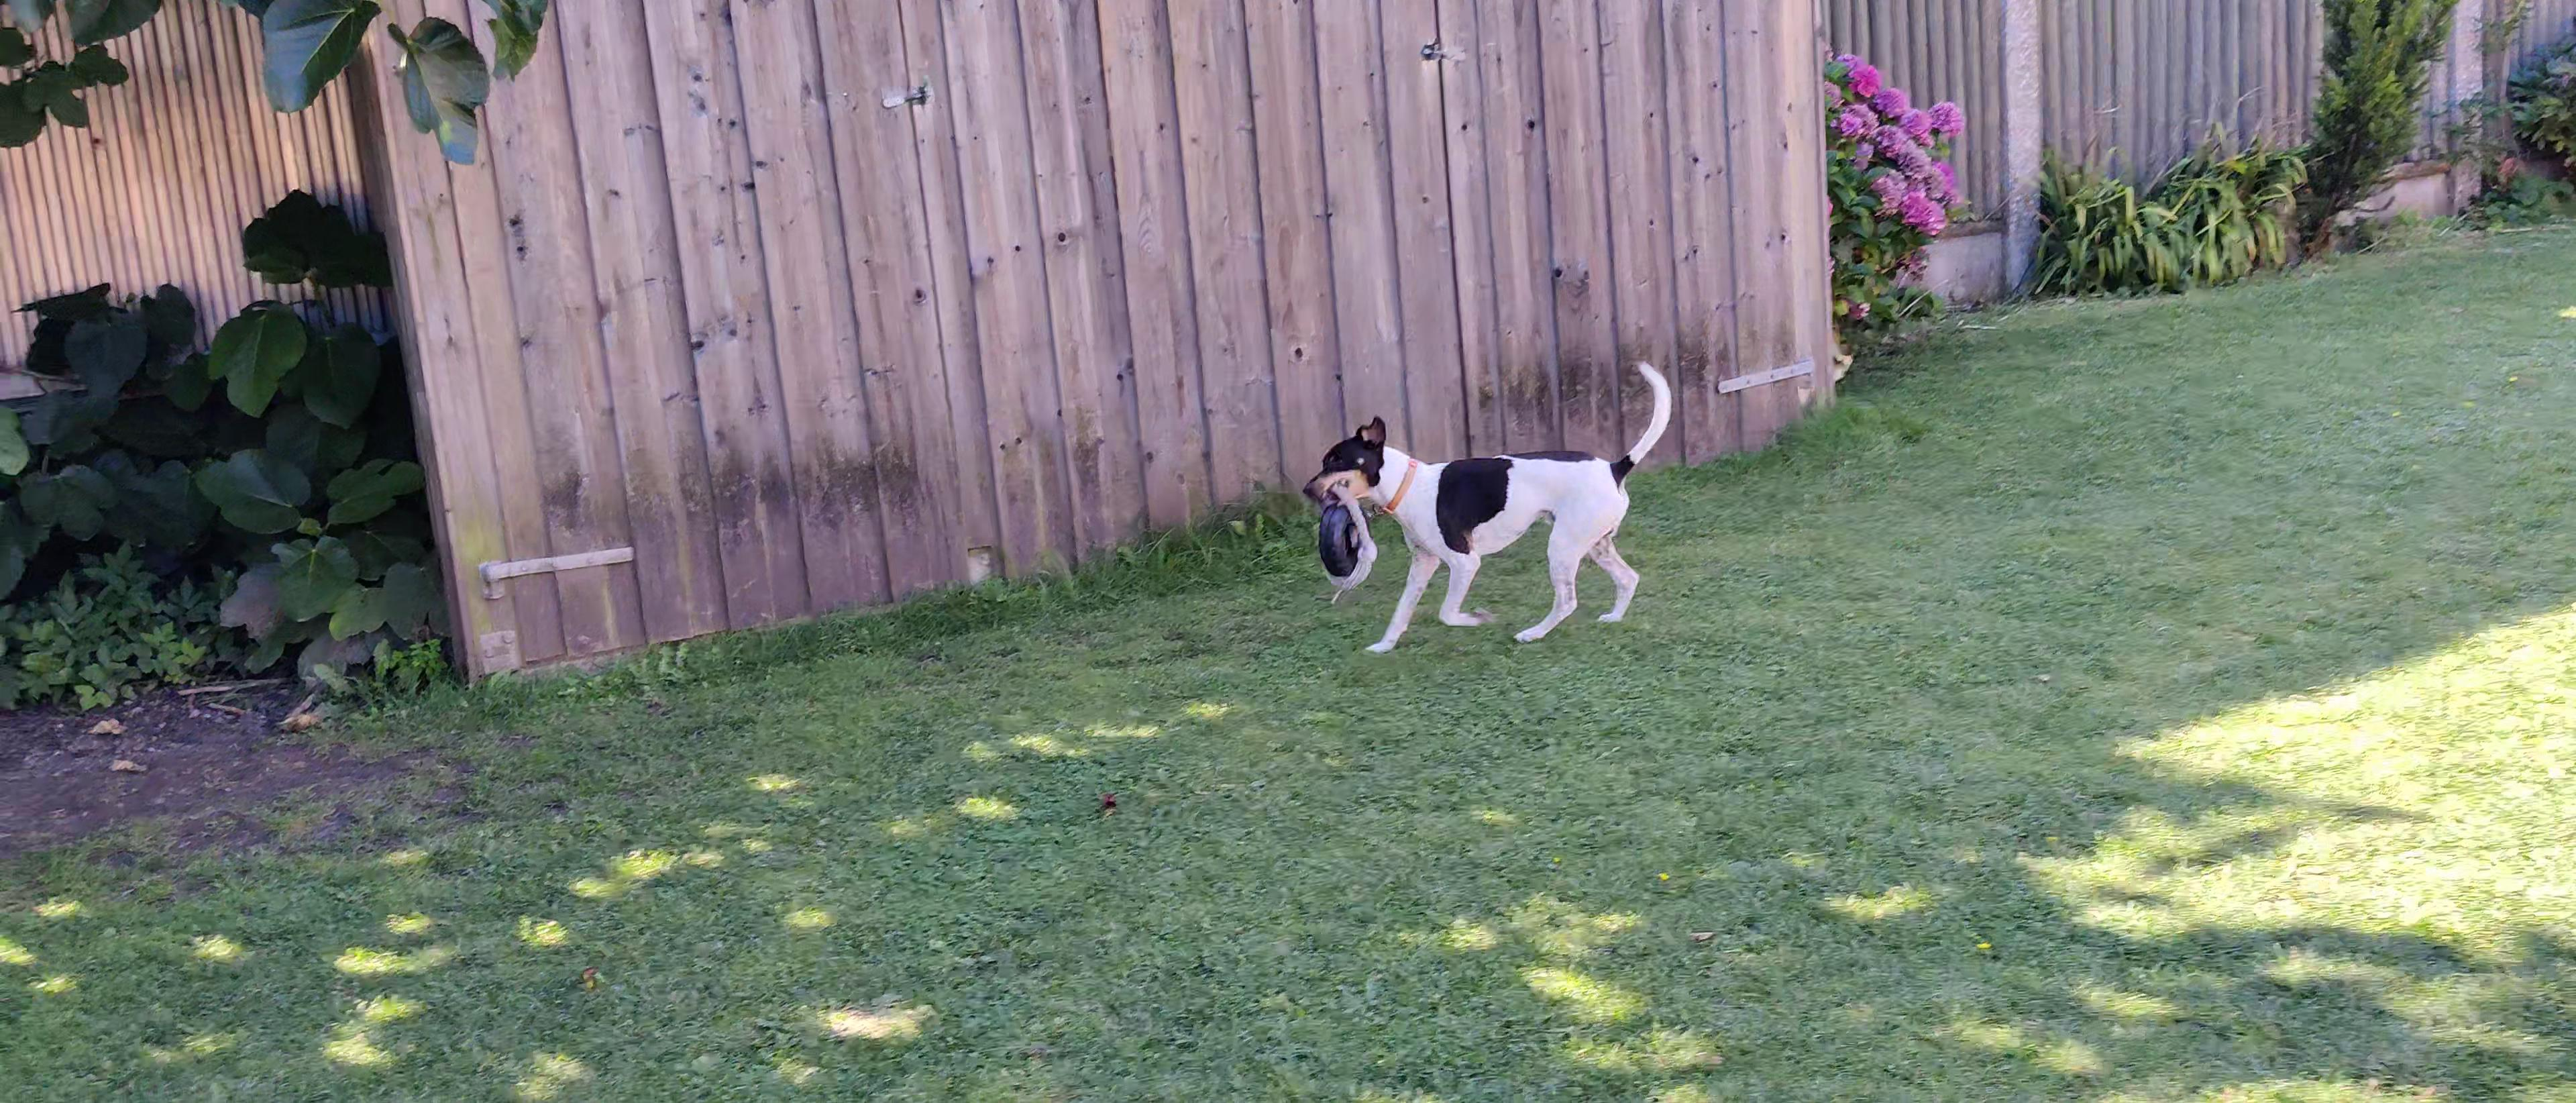Dog: (1299, 353, 1676, 658)
